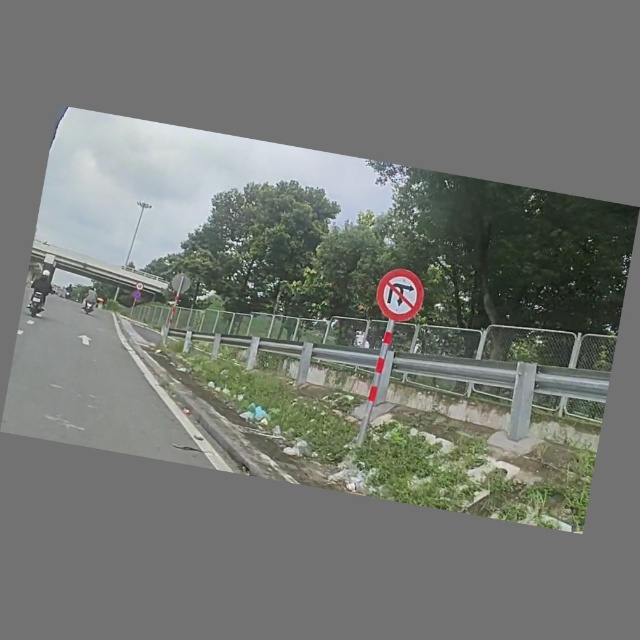P.124d: (372, 265, 429, 327)
P.127*40: (135, 282, 145, 292)
P.130: (132, 290, 142, 300)
